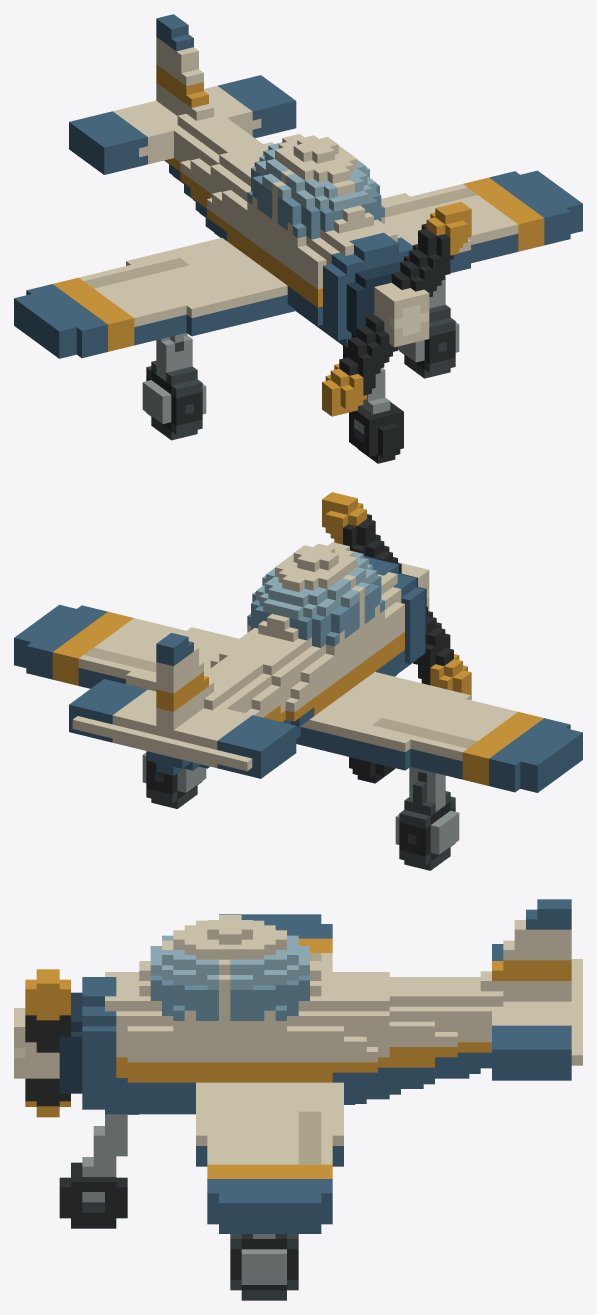
Rendered from propeller_plane.glb.
3 renders of one model, top to bottom at view 1: azimuth 30°, elevation 25°; view 2: azimuth 150°, elevation 25°; view 3: azimuth 270°, elevation 25°, orthographic. The views are drawn at different scales.
Parts seen in each view (by area): view 1: propeller_plane; view 2: propeller_plane; view 3: propeller_plane.
Part boxes in pixels (box(x1,y1,x2,y2)): propeller_plane: box(14, 14, 582, 463); propeller_plane: box(14, 492, 582, 870); propeller_plane: box(14, 899, 582, 1300).
Bounding box in the file's own units: 6 × 3.1 × 5.
